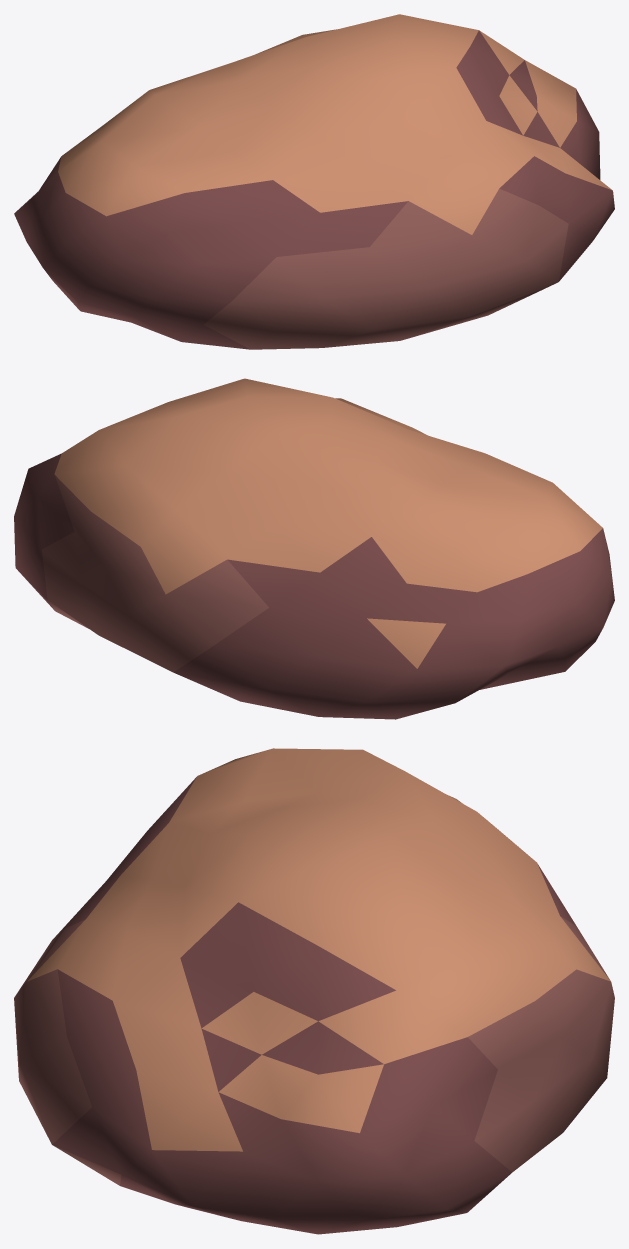
Rendered from rock_1.glb.
3 renders of one model, top to bottom at view 1: azimuth 30°, elevation 25°; view 2: azimuth 150°, elevation 25°; view 3: azimuth 270°, elevation 25°, orthographic. The views are drawn at different scales.
Parts seen in each view (by area): view 1: rock_1; view 2: rock_1; view 3: rock_1.
Boxes of the visible parts, bbox=[...] form: rock_1: bbox=[14, 14, 614, 349]; rock_1: bbox=[14, 378, 614, 719]; rock_1: bbox=[14, 748, 614, 1234].
Bounding box in the file's own units: 0.768 × 0.2721 × 0.5484.
